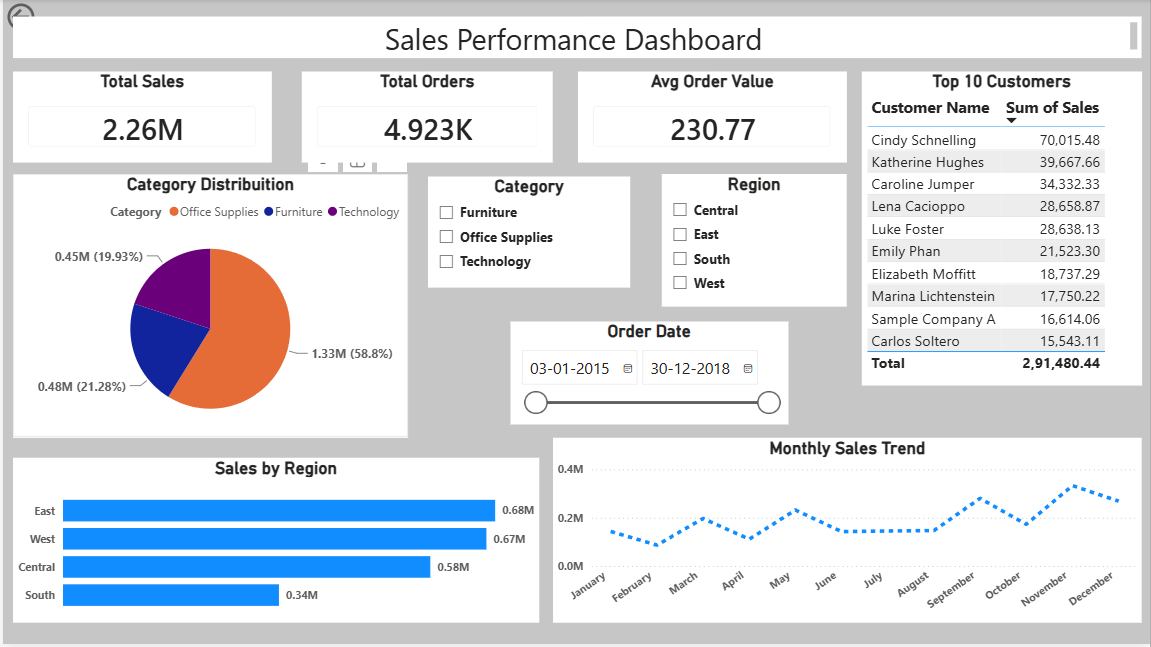

The page's visual inventory and layout, read from the dashboard file:
{"tool":"powerbi","page":{"name":"Page 1","canvas":[1280,720],"ordinal":0},"visuals":[{"type":"cardVisual","title":"Total Sales","fields":{"Data":["Sum(cleaned_sales_data.Sales)"]},"box":[11.2,80.9,288.7,101.8],"z":0},{"type":"cardVisual","title":"Avg Order Value","fields":{"Data":["Avg(cleaned_sales_data.Sales)"]},"box":[641.5,80.9,299.8,101.8],"z":1000},{"type":"barChart","title":"Sales by Region","fields":{"Category":["cleaned_sales_data.Region"],"Y":["Sum(cleaned_sales_data.Sales)"]},"box":[11.2,511.8,587.1,184.1],"z":2000},{"type":"lineChart","title":"Monthly Sales Trend","fields":{"Y":["Sum(cleaned_sales_data.Sales)"],"Category":["cleaned_sales_data.Order Date.Variation.Date Hierarchy.Month"]},"box":[613.6,489.5,656.9,206.4],"z":3000},{"type":"pieChart","title":"Category Distribuition","fields":{"Category":["cleaned_sales_data.Category"],"Y":["Sum(cleaned_sales_data.Sales)"]},"box":[11.2,195.3,440.7,294.3],"z":4000},{"type":"cardVisual","title":"Total Orders","fields":{"Data":["Count(cleaned_sales_data.Order ID)"]},"box":[333.3,80.9,280.3,101.8],"z":5000},{"type":"tableEx","title":"Top 10 Customers","fields":{"Values":["cleaned_sales_data.Customer Name","Sum(cleaned_sales_data.Sales)"]},"box":[958.1,80.9,312.4,350.1],"z":6000},{"type":"actionButton","box":[0,0,100,40],"z":7000},{"type":"slicer","title":"Region","fields":{"Values":["cleaned_sales_data.Region"]},"box":[735,195.3,206.4,147.8],"z":7001},{"type":"slicer","title":"Category","fields":{"Values":["cleaned_sales_data.Category"]},"box":[474.2,198,225.9,124.1],"z":7002},{"type":"slicer","title":"Order Date","fields":{"Values":["cleaned_sales_data.Order Date"]},"box":[566.2,359.8,309.6,114.4],"z":7003},{"type":"textbox","box":[11.2,19.5,1259.4,46],"z":7004}]}

Visuals, with their boxes in screenshot pixels (x1, y1, x2, y2), scaled from the page's 1280x720 canvas onto the 1151x647 screenshot:
"Total Sales" cardVisual: pyautogui.locateOnScreen(10, 73, 270, 164)
"Avg Order Value" cardVisual: pyautogui.locateOnScreen(577, 73, 846, 164)
"Sales by Region" barChart: pyautogui.locateOnScreen(10, 460, 538, 625)
"Monthly Sales Trend" lineChart: pyautogui.locateOnScreen(552, 440, 1142, 625)
"Category Distribuition" pieChart: pyautogui.locateOnScreen(10, 175, 406, 440)
"Total Orders" cardVisual: pyautogui.locateOnScreen(300, 73, 552, 164)
"Top 10 Customers" tableEx: pyautogui.locateOnScreen(862, 73, 1142, 387)
actionButton: pyautogui.locateOnScreen(0, 0, 90, 36)
"Region" slicer: pyautogui.locateOnScreen(661, 175, 847, 308)
"Category" slicer: pyautogui.locateOnScreen(426, 178, 630, 289)
"Order Date" slicer: pyautogui.locateOnScreen(509, 323, 788, 426)
textbox: pyautogui.locateOnScreen(10, 18, 1143, 59)
